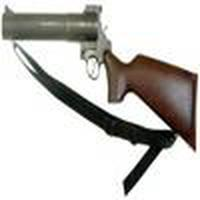gun: (3, 7, 200, 174)
